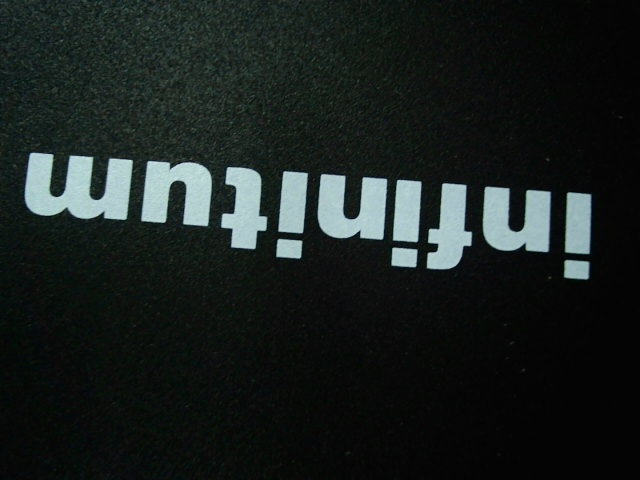BK_infinitum: (19, 145, 595, 289)
